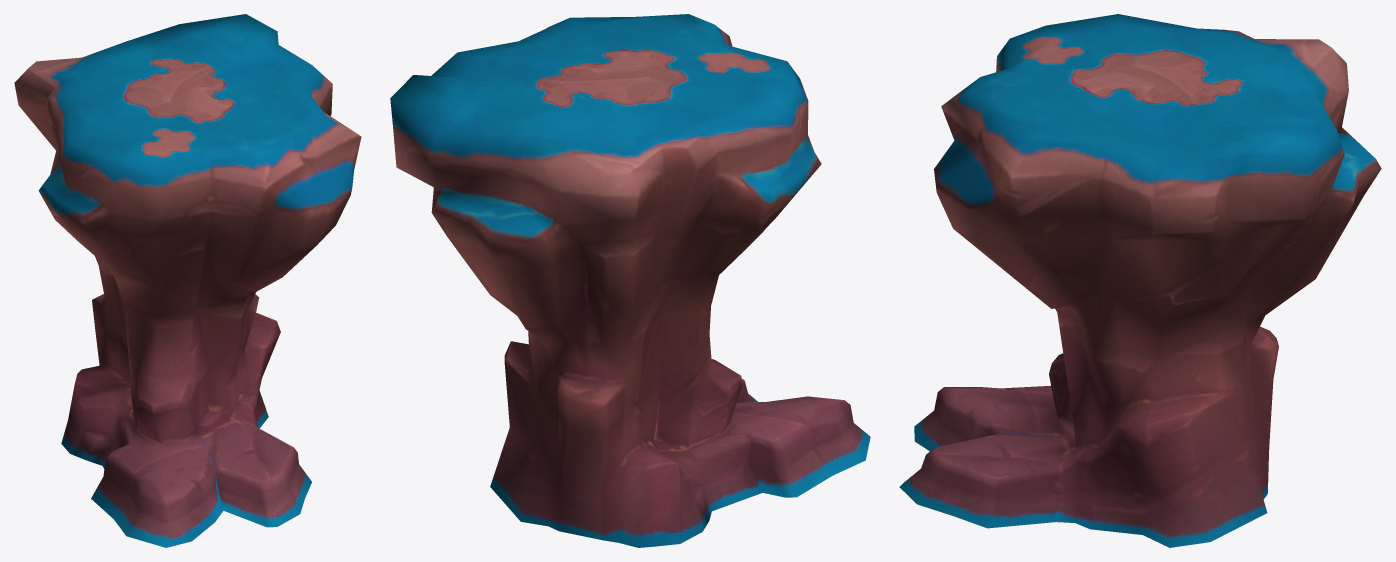
The model's file is nameikexing_shitou01.FBX.
3 views of the same model, side by side, from view 1: azimuth 30°, elevation 25°; view 2: azimuth 150°, elevation 25°; view 3: azimuth 270°, elevation 25° (orthographic). The views are drawn at different scales.
Visible parts, largest first — view 1: nameikexing_shitou01; view 2: nameikexing_shitou01; view 3: nameikexing_shitou01.
Part boxes in pixels (bbox=[...]): nameikexing_shitou01: bbox=[14, 14, 361, 547]; nameikexing_shitou01: bbox=[390, 14, 870, 547]; nameikexing_shitou01: bbox=[899, 14, 1381, 547].
Bounding box in the file's own units: 2307 × 2703 × 2813.
